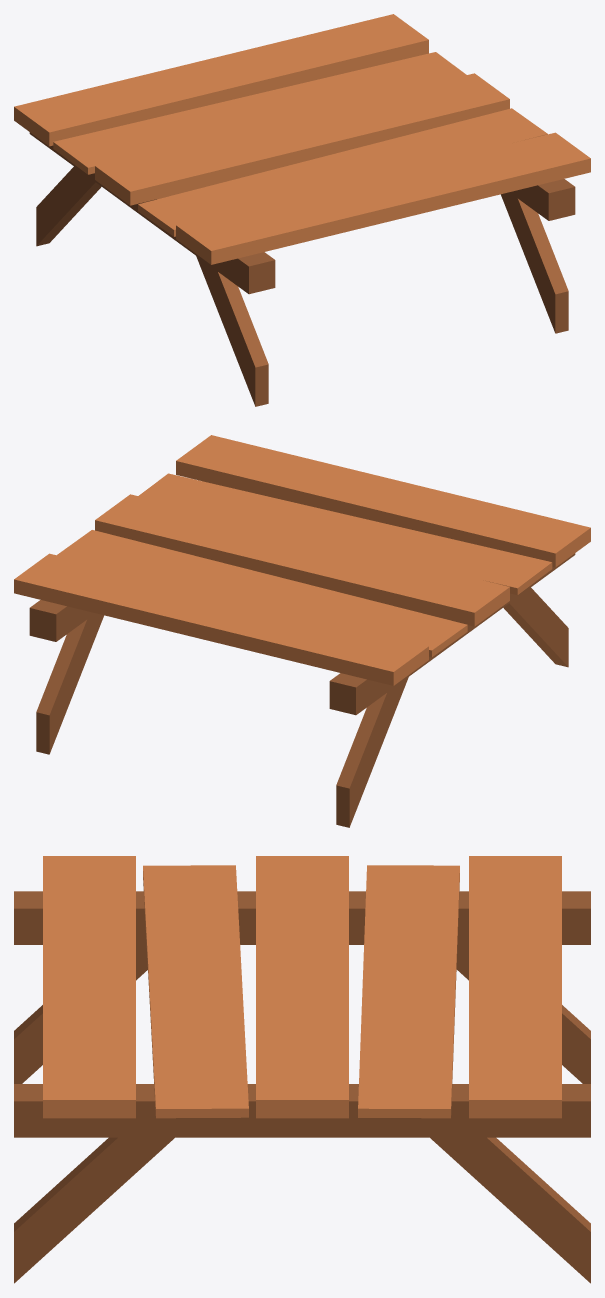
Rendered from bridge.obj.
3 renders of one model, top to bottom at view 1: azimuth 30°, elevation 25°; view 2: azimuth 150°, elevation 25°; view 3: azimuth 270°, elevation 25°, orthographic. The views are drawn at different scales.
Parts seen in each view (by area): view 1: bridge; view 2: bridge; view 3: bridge.
Boxes of the visible parts, x1,y1,x2,y2 form: bridge: (14,14,590,406); bridge: (14,435,590,827); bridge: (14,856,590,1283).
Size of the model in its own units: 1 by 0.3925 by 1.
